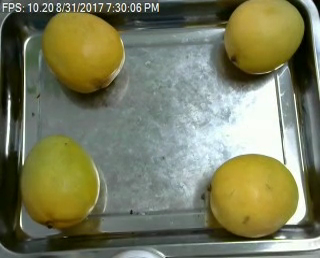Mango: (19, 134, 102, 228), (40, 10, 127, 96), (210, 154, 298, 239), (222, 1, 307, 77)
